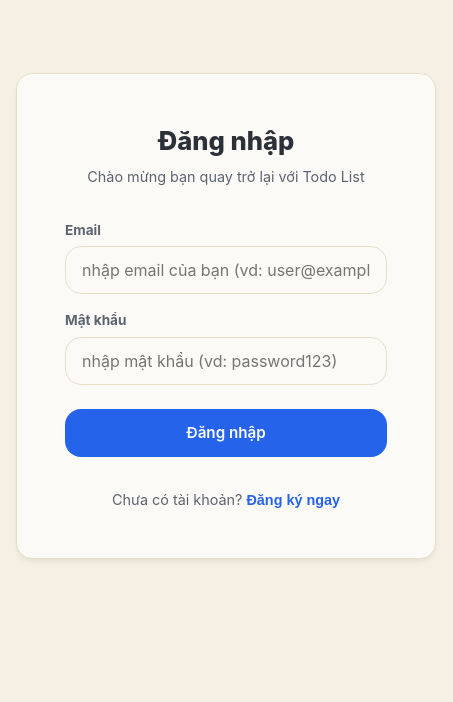
Test case: Kiểm thử Luồng Đăng nhập, Đăng ký & Đăng xuất › Cho phép chuyển đổi giữa màn hình Đăng ký và Đăng nhập
The image size is (453, 702).
Note: Nhấp liên kết để sang Đăng ký
Click the button "Đăng ký ngay": point(293, 500) [246, 492, 340, 508]
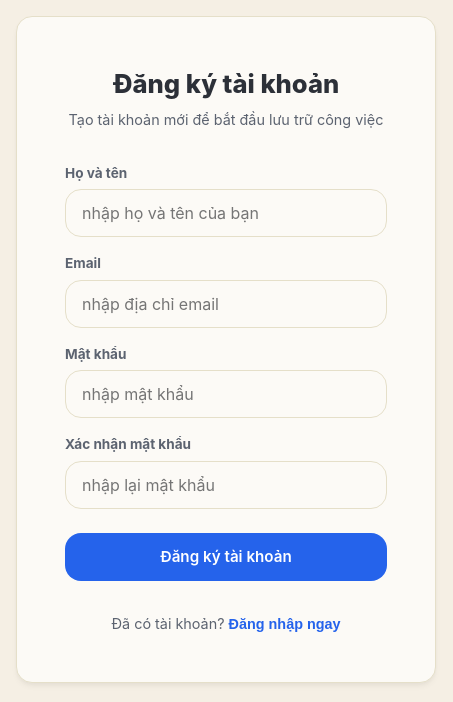
Result: the heading "Đăng ký tài khoản" is shown at [113, 68, 339, 99]
Note: Nhấp liên kết để quay về Đăng nhập
Click the button "Đăng nhập ngay": point(285, 624) [229, 616, 340, 632]
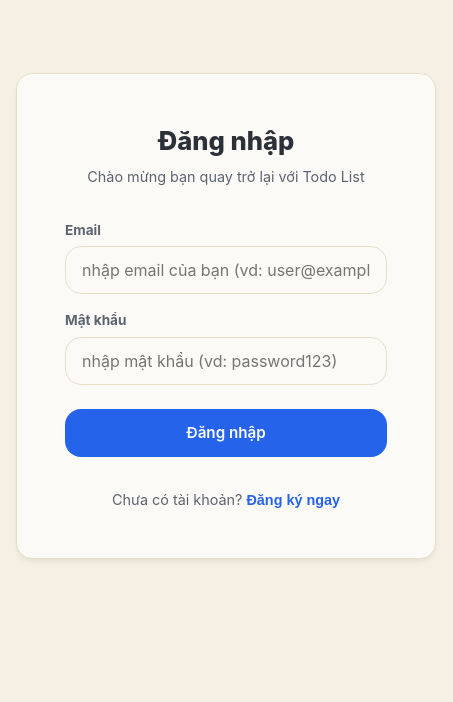
Result: the heading "Đăng nhập" is shown at [158, 125, 294, 156]
